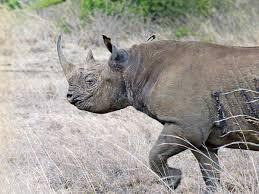Rhinoceroses: (57, 35, 258, 193)
